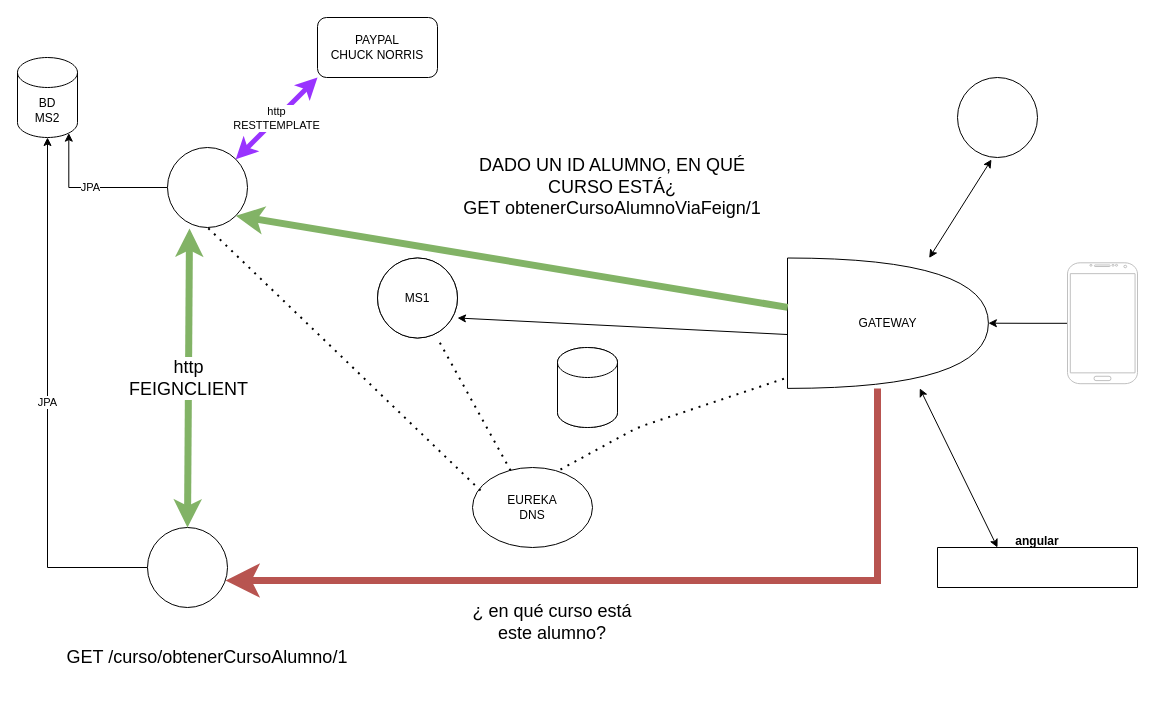
This 1155x705 diagram has some shape labels left out. The box of each missing label's shape, as (x1, y1, x2, y2) in pixels:
MOVIL: (1066, 262, 1138, 384)
MS2 alumnos: (166, 146, 248, 228)
MS3 cursos: (146, 526, 228, 608)
POSTMAN: (956, 76, 1038, 158)
